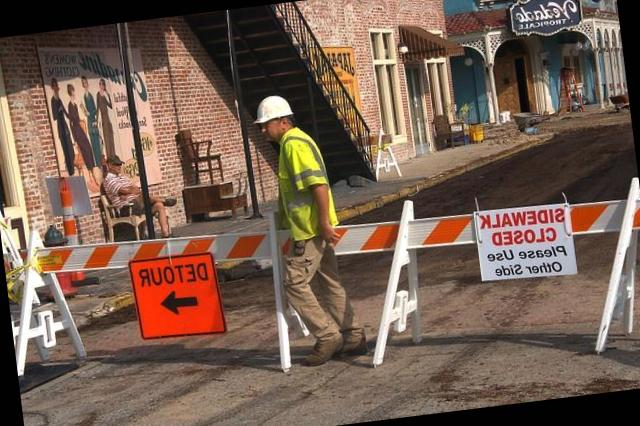helmet: (248, 91, 296, 126)
person: (244, 86, 360, 372)
